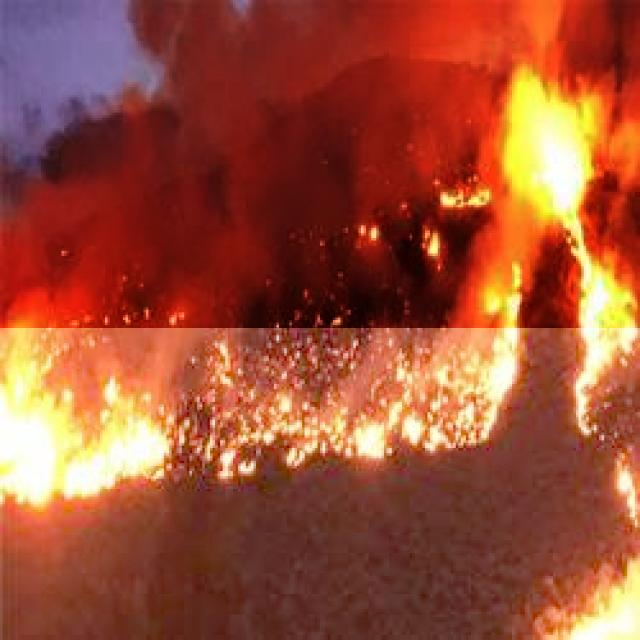Fire: (0, 77, 640, 640)
Smoke: (0, 0, 640, 328)
